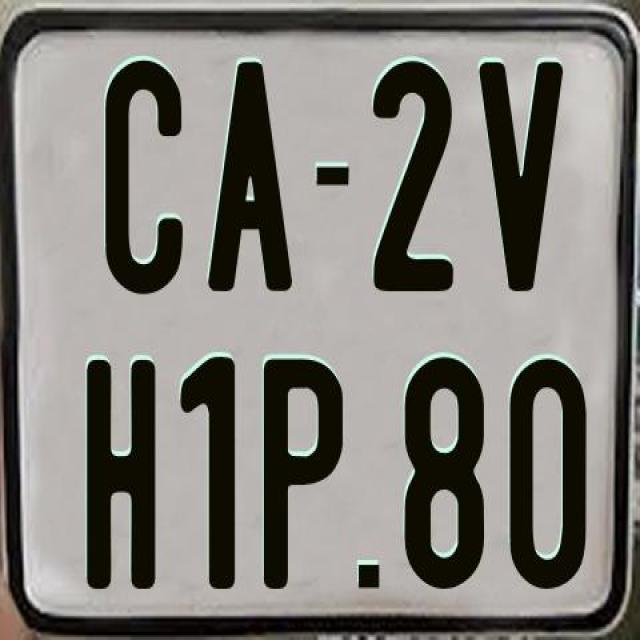0: (508, 354, 588, 586)
1: (177, 352, 240, 590)
2: (371, 56, 456, 288)
8: (402, 357, 482, 597)
A: (207, 61, 290, 300)
C: (105, 59, 191, 298)
H: (82, 358, 158, 596)
P: (264, 357, 346, 590)
V: (478, 61, 562, 296)
